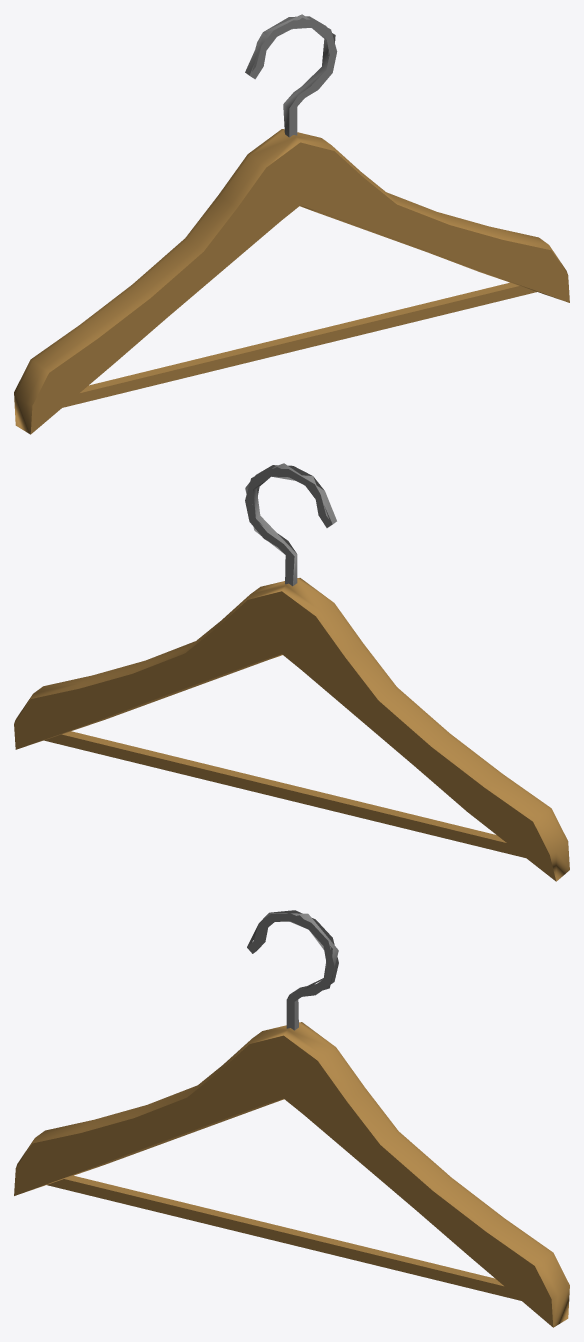
File: hook.glb
3 renders of one model, top to bottom at view 1: azimuth 30°, elevation 25°; view 2: azimuth 150°, elevation 25°; view 3: azimuth 330°, elevation 25°, orthographic.
Visible parts, largest first — view 1: Object_2, Object_3; view 2: Object_2, Object_3; view 3: Object_2, Object_3.
Boxes of the visible parts, x1,y1,x2,y2 form: Object_2: (14,129,569,434); Object_3: (245,14,337,137); Object_2: (14,578,569,881); Object_3: (245,463,336,586); Object_2: (14,1022,569,1327); Object_3: (247,910,338,1030).
Size of the model in its own units: 4.39 by 2.68 by 0.2595.
